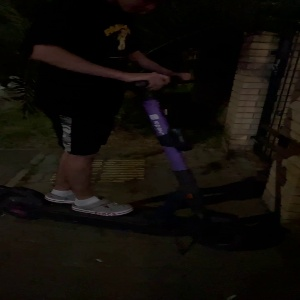human on a scooter: (1, 1, 247, 253)
